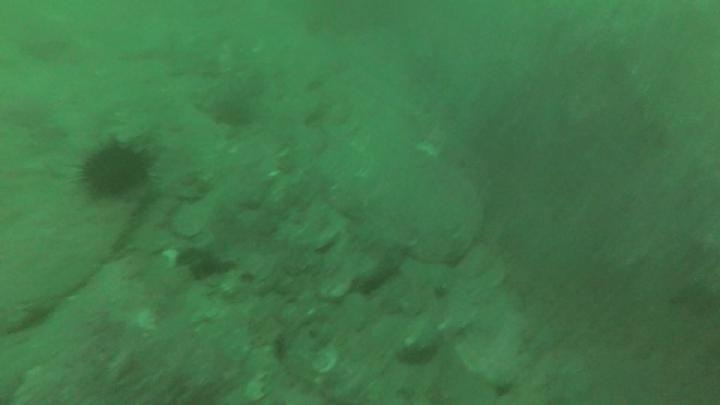echinus: (83, 149, 149, 198)
